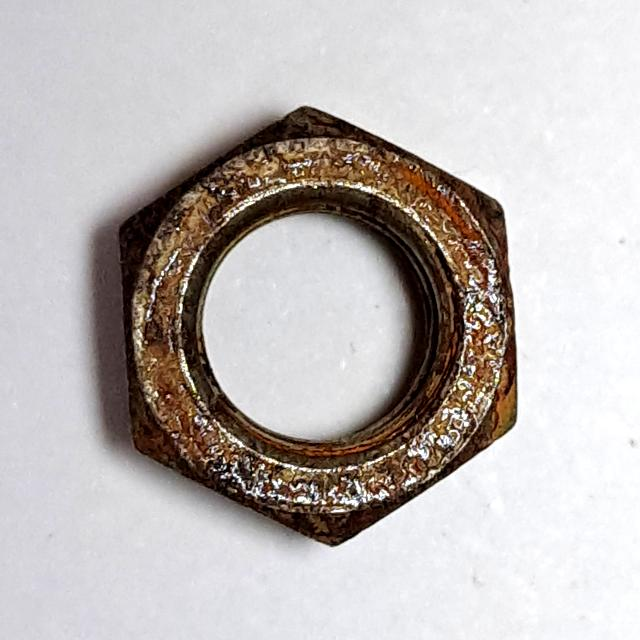Rust: (109, 92, 536, 566)
